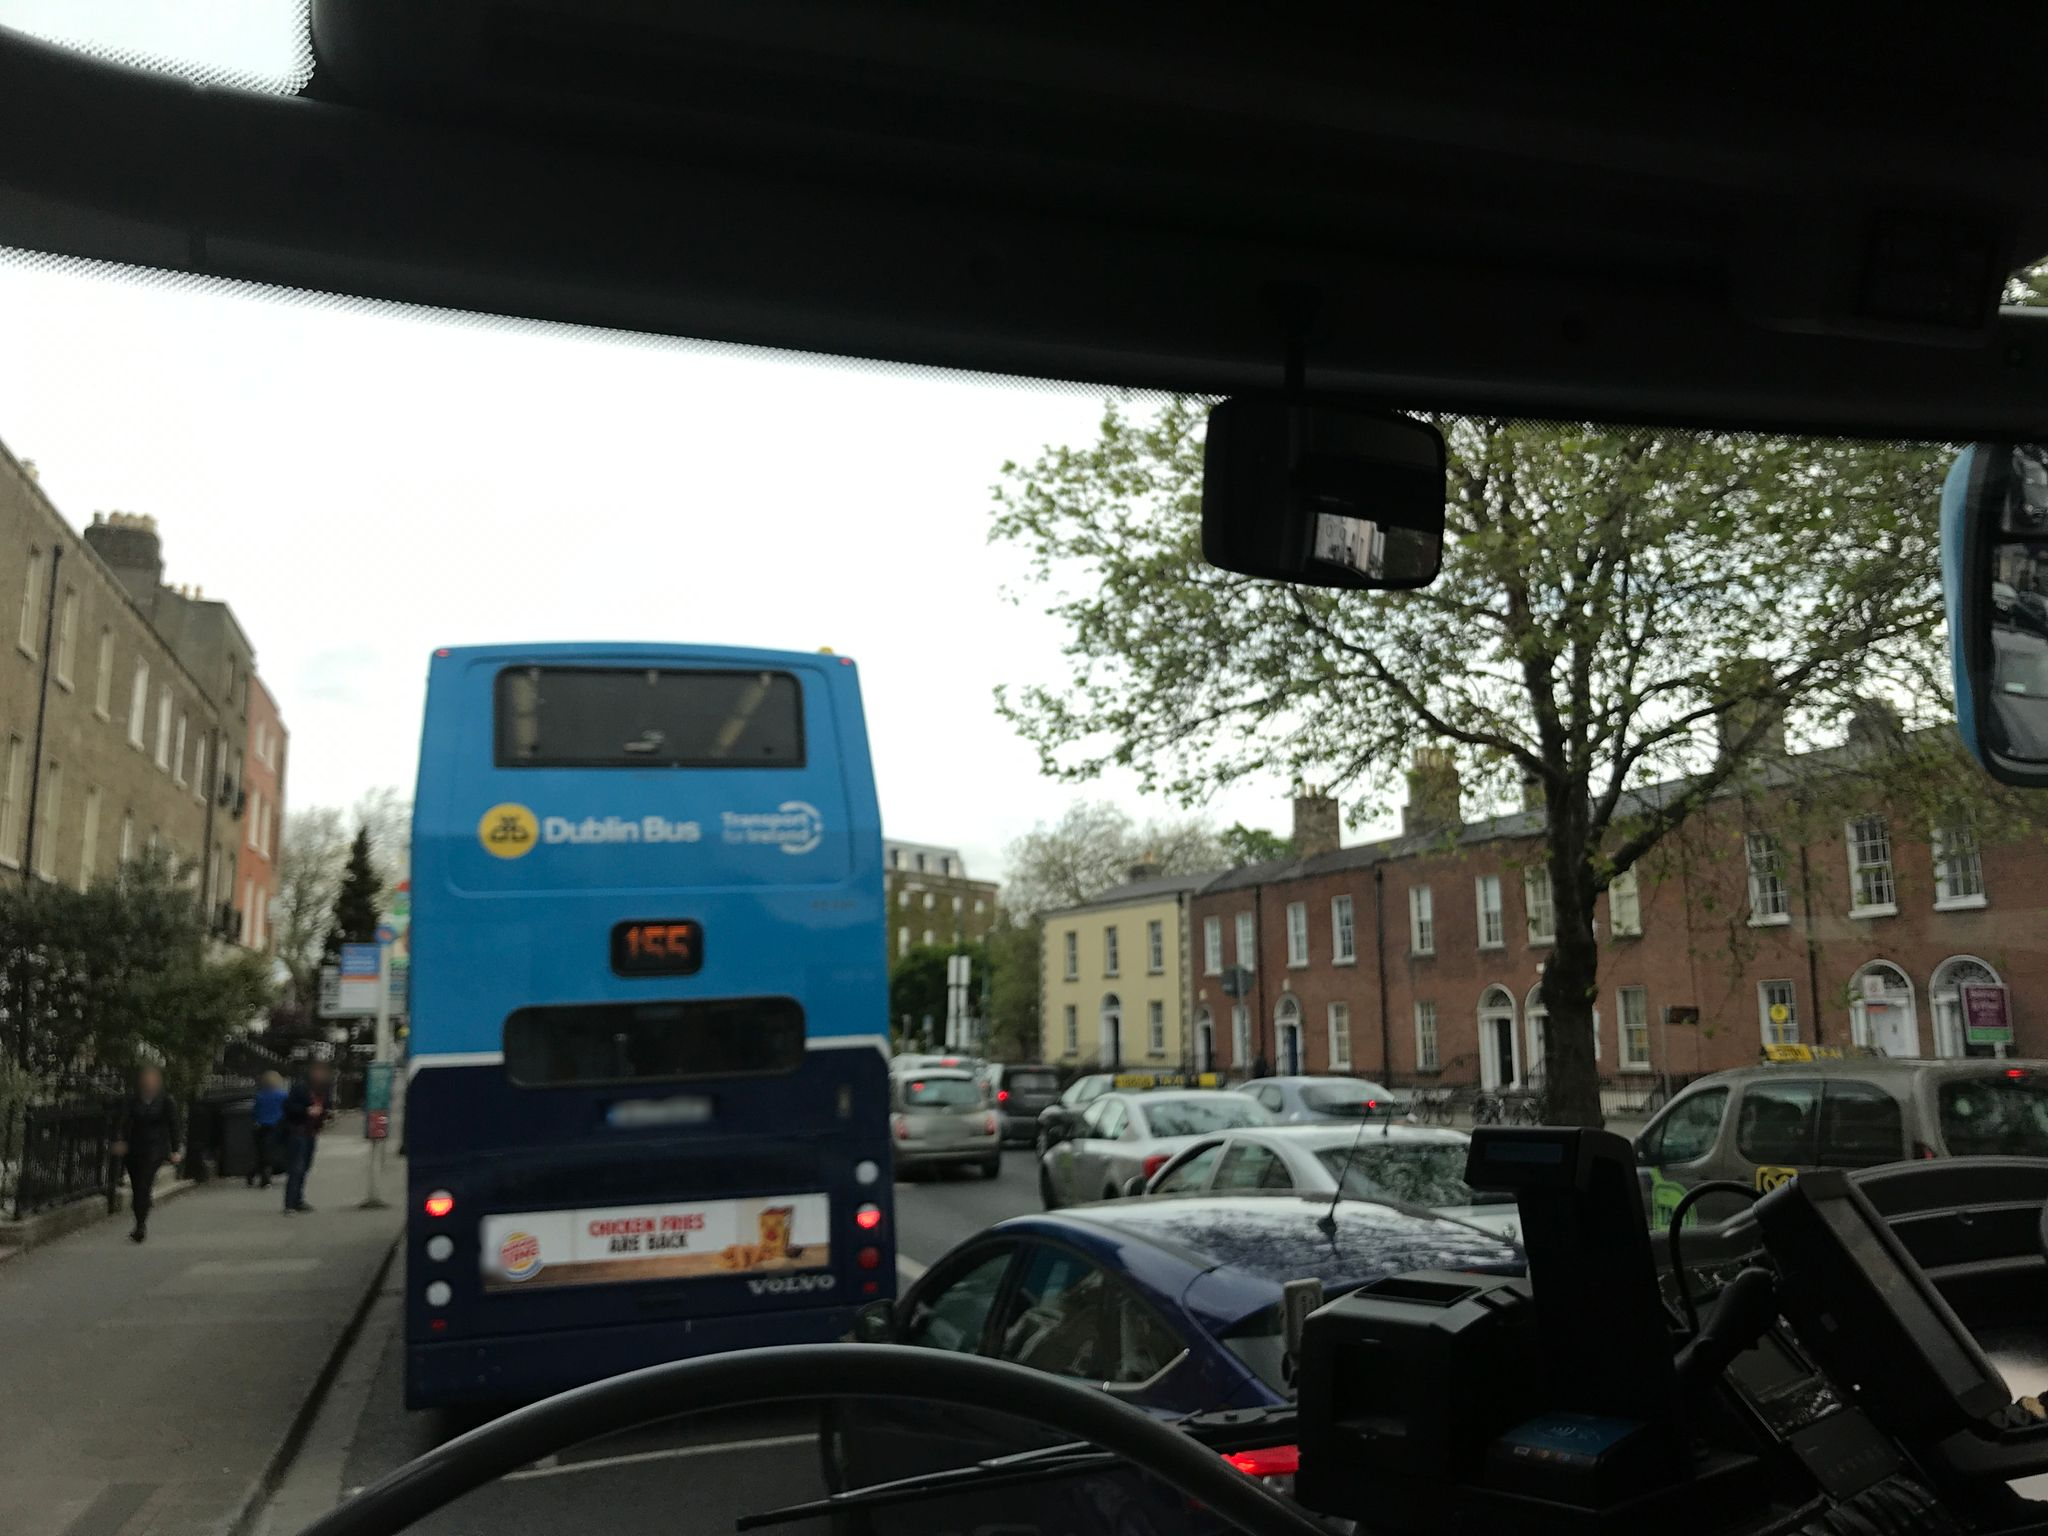property sign: (1950, 966, 2030, 1066)
